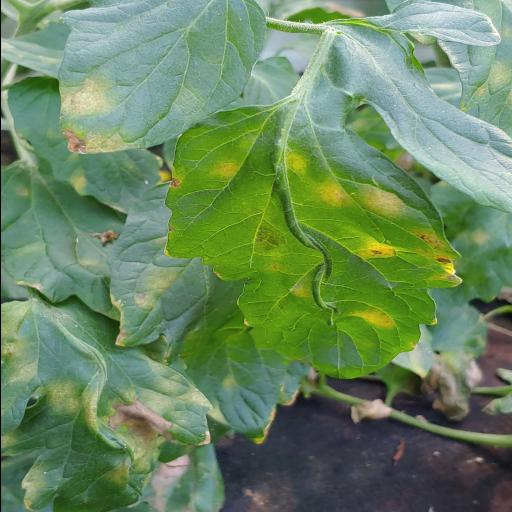Leaf Mold: (161, 0, 512, 381), (54, 0, 268, 155)
